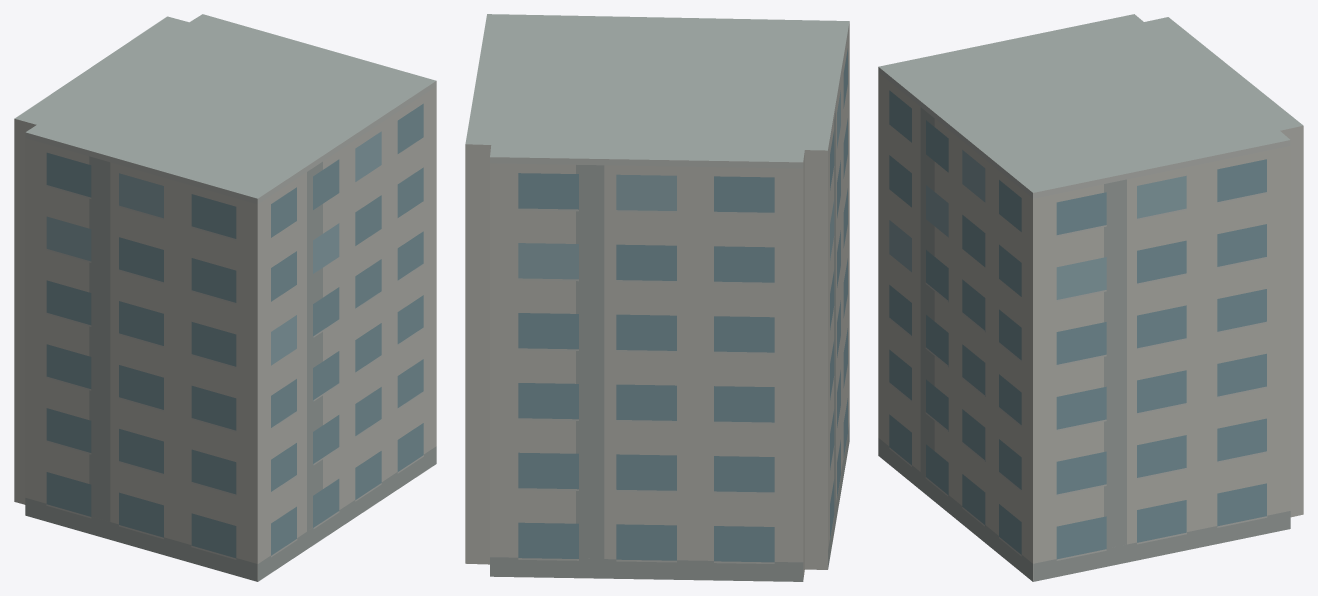
The model's file is survey-upis-33041543.glb.
3 renders of one model, left to right at view 1: azimuth 30°, elevation 25°; view 2: azimuth 150°, elevation 25°; view 3: azimuth 270°, elevation 25°, orthographic. The views are drawn at different scales.
Visible parts, largest first — view 1: survey-upis-33041543.tmp; view 2: survey-upis-33041543.tmp; view 3: survey-upis-33041543.tmp.
Part boxes in pixels (bbox=[...]): survey-upis-33041543.tmp: bbox=[14, 14, 436, 581]; survey-upis-33041543.tmp: bbox=[465, 14, 849, 581]; survey-upis-33041543.tmp: bbox=[878, 14, 1303, 581].
Size of the model in its own units: 16.17 by 16.38 by 16.24.
